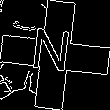N_S: (32, 27, 78, 83)
